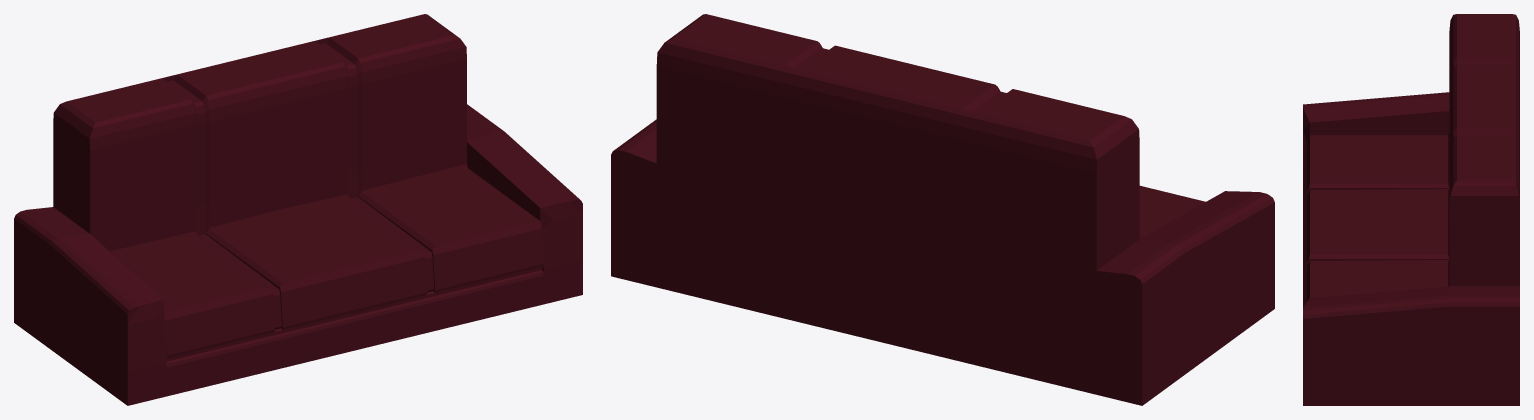
File: Sofa_MOD.fbx
3 renders of one model, left to right at view 1: azimuth 30°, elevation 25°; view 2: azimuth 150°, elevation 25°; view 3: azimuth 270°, elevation 25°, orthographic. The views are drawn at different scales.
Visible parts, largest first — view 1: Cube; view 2: Cube; view 3: Cube.
Part boxes in pixels (box(x1,y1,x2,y2)): Cube: box(14, 14, 582, 405); Cube: box(611, 14, 1274, 405); Cube: box(1303, 14, 1519, 405).
Bounding box in the file's own units: 247 × 110 × 107.
